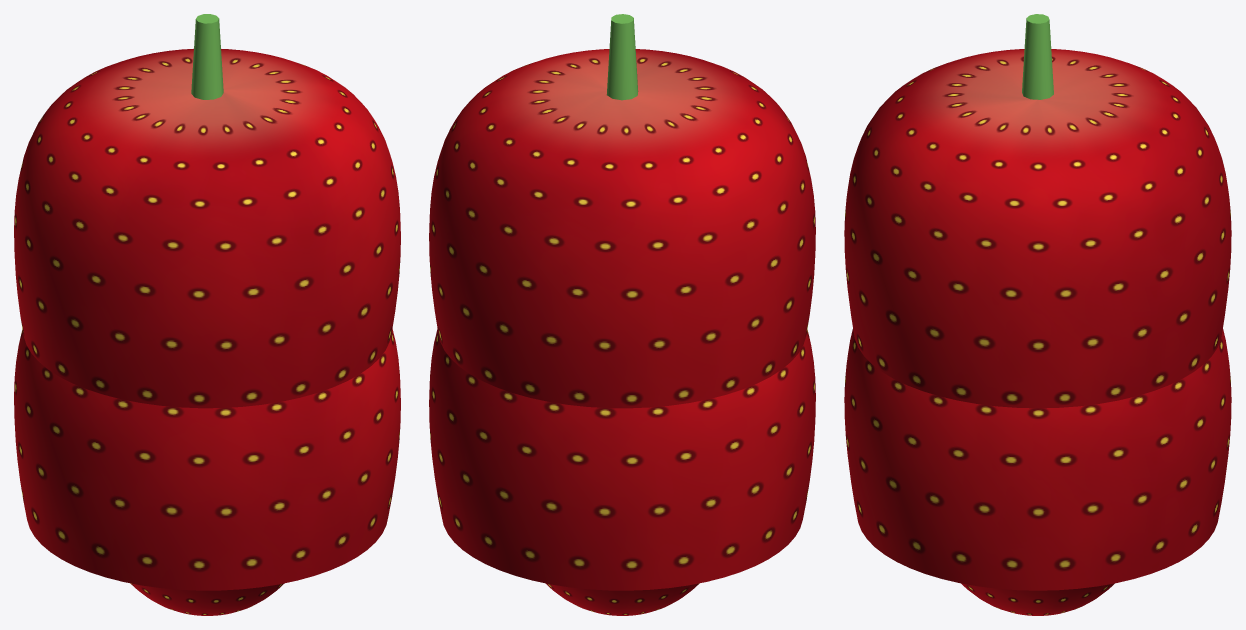
Rendered from strawberry.glb.
3 renders of one model, left to right at view 1: azimuth 30°, elevation 25°; view 2: azimuth 150°, elevation 25°; view 3: azimuth 270°, elevation 25°, orthographic.
Parts seen in each view (by area): view 1: whole, top; view 2: whole, top; view 3: whole, top.
Part boxes in pixels (x1=…): whole: x1=14, y1=14, x2=400, y2=615; top: x1=14, y1=328, x2=400, y2=590; whole: x1=429, y1=14, x2=815, y2=615; top: x1=429, y1=329, x2=815, y2=590; whole: x1=844, y1=14, x2=1231, y2=615; top: x1=844, y1=329, x2=1231, y2=590.
Size of the model in its own units: 0.3306 by 0.55 by 0.3306.
3 materials, 2 textured.
